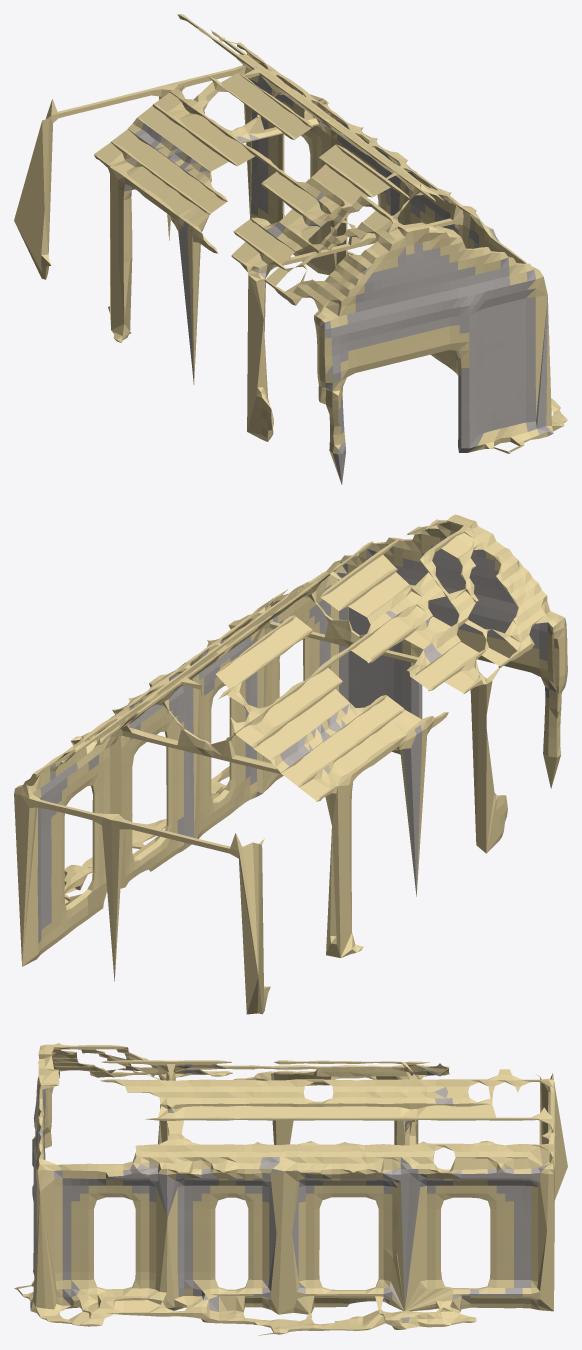
The model's file is ruin_shed.glb.
3 renders of one model, top to bottom at view 1: azimuth 30°, elevation 25°; view 2: azimuth 150°, elevation 25°; view 3: azimuth 270°, elevation 25°, orthographic. The views are drawn at different scales.
Visible parts, largest first — view 1: Mesh_0.020; view 2: Mesh_0.020; view 3: Mesh_0.020.
Part boxes in pixels (left/top/right/bottom): Mesh_0.020: left=14, top=14, right=567, bottom=484; Mesh_0.020: left=14, top=514, right=567, bottom=1014; Mesh_0.020: left=14, top=1043, right=567, bottom=1335.
Bounding box in the file's own units: 0.5518 × 0.4256 × 1.02.
